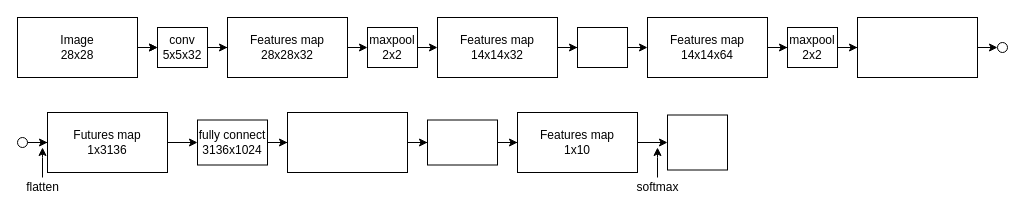
Some shapes in this 1025 by 215 pixel diagram are drawn without their labels. The centre of each missing label's shape, as x and y in pixels:
"conv 5x5x64" goes at point 602,47.
"Digit" goes at point 697,142.
"Features map 1x1024" goes at point 347,142.
"Features map 7x7x64" goes at point 917,47.
"fully connect 1024x10" goes at point 462,142.
